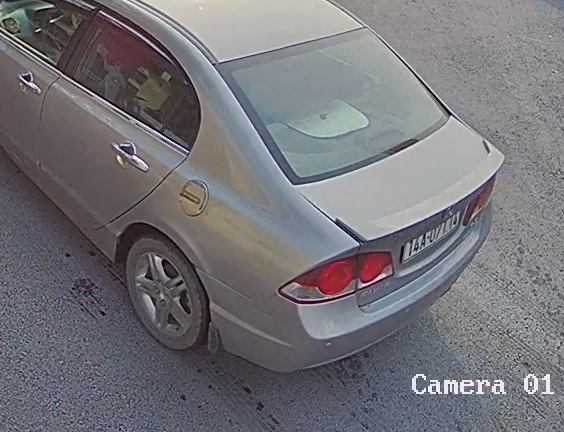vehicle plate: (397, 211, 469, 267)
